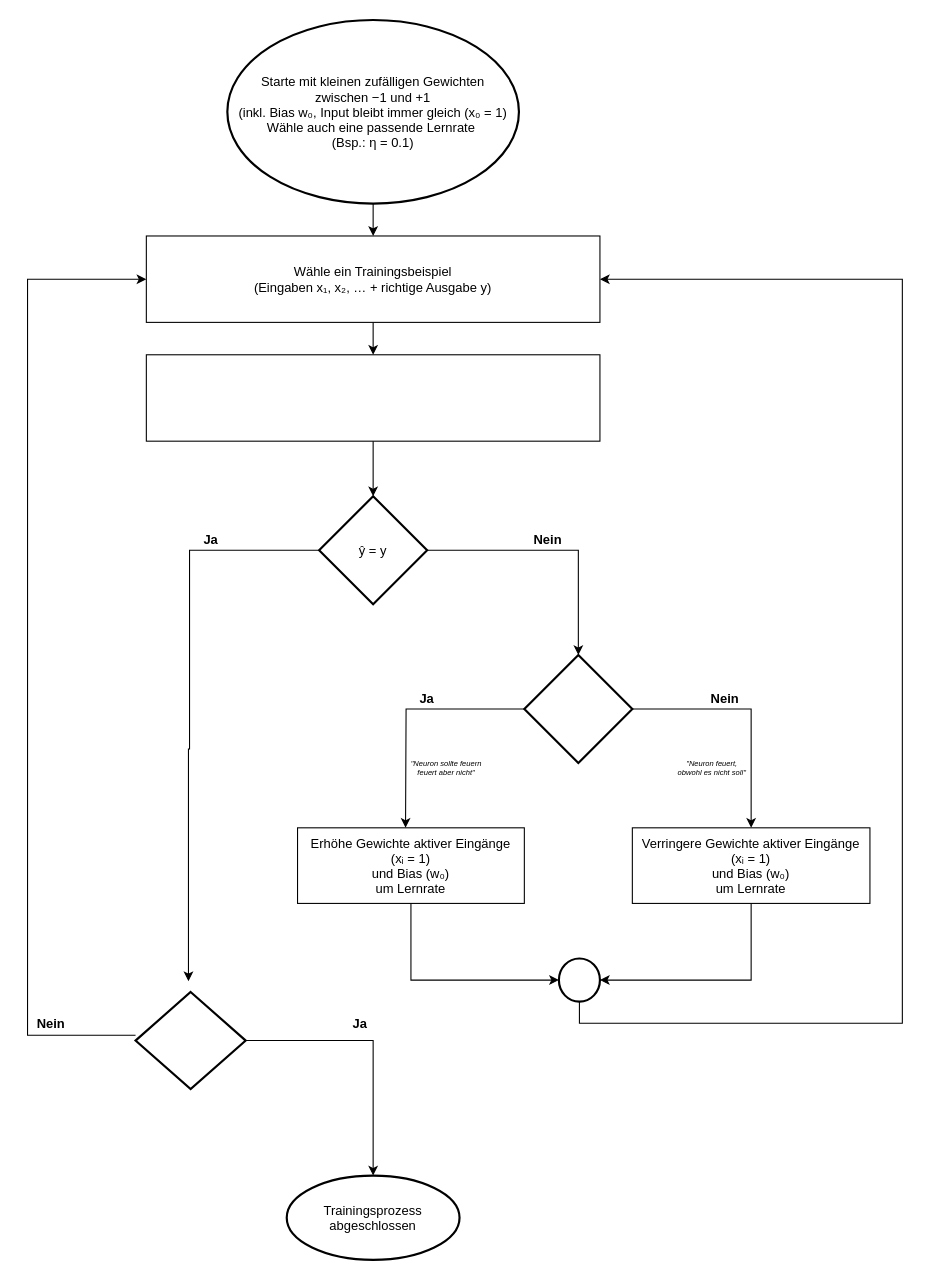
Some shapes in this 930 by 1279 pixel diagram are drawn without their labels. The centre of each missing label's shape, as x and y in pixels:
"Berechne Ausgabe ŷ mit Step-Funktion (ŷ = 0 oder 1)" goes at pixel 372 397.
"Trainingsbeispiele korrekt?" goes at pixel 190 1040.
"y = 1, ŷ = 0" goes at pixel 578 708.
